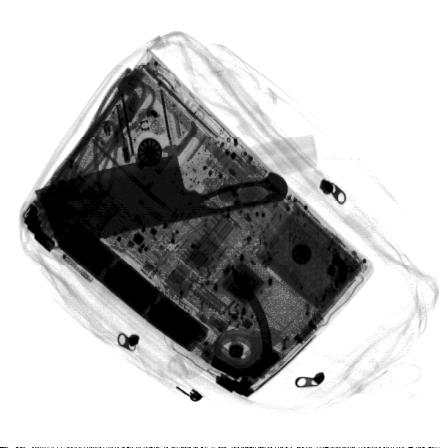Knife: (34, 153, 290, 251)
